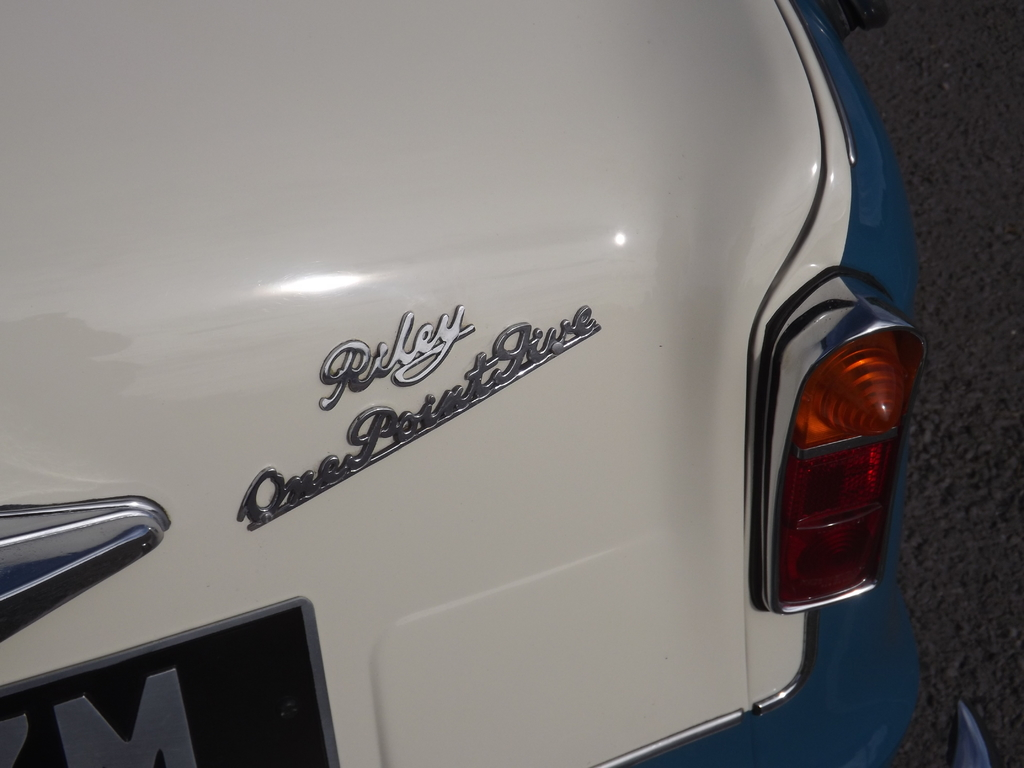Car: (98, 0, 946, 768)
